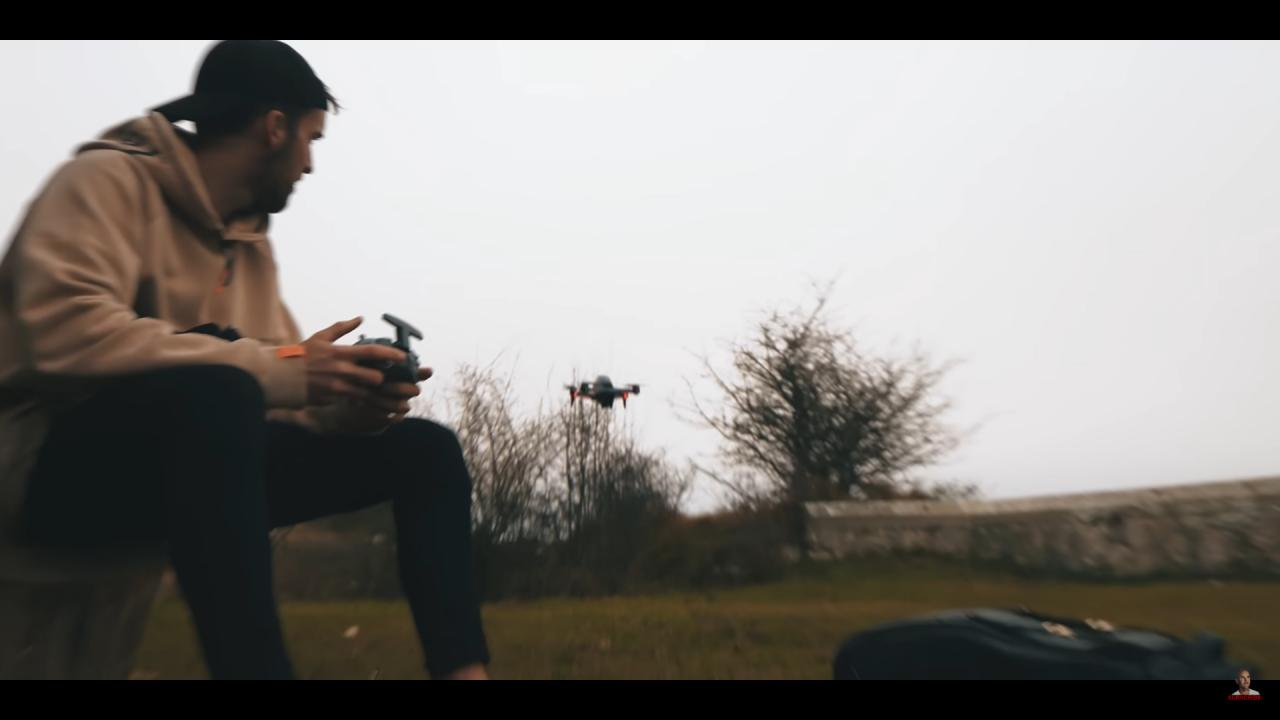Drone: (552, 366, 649, 413)
